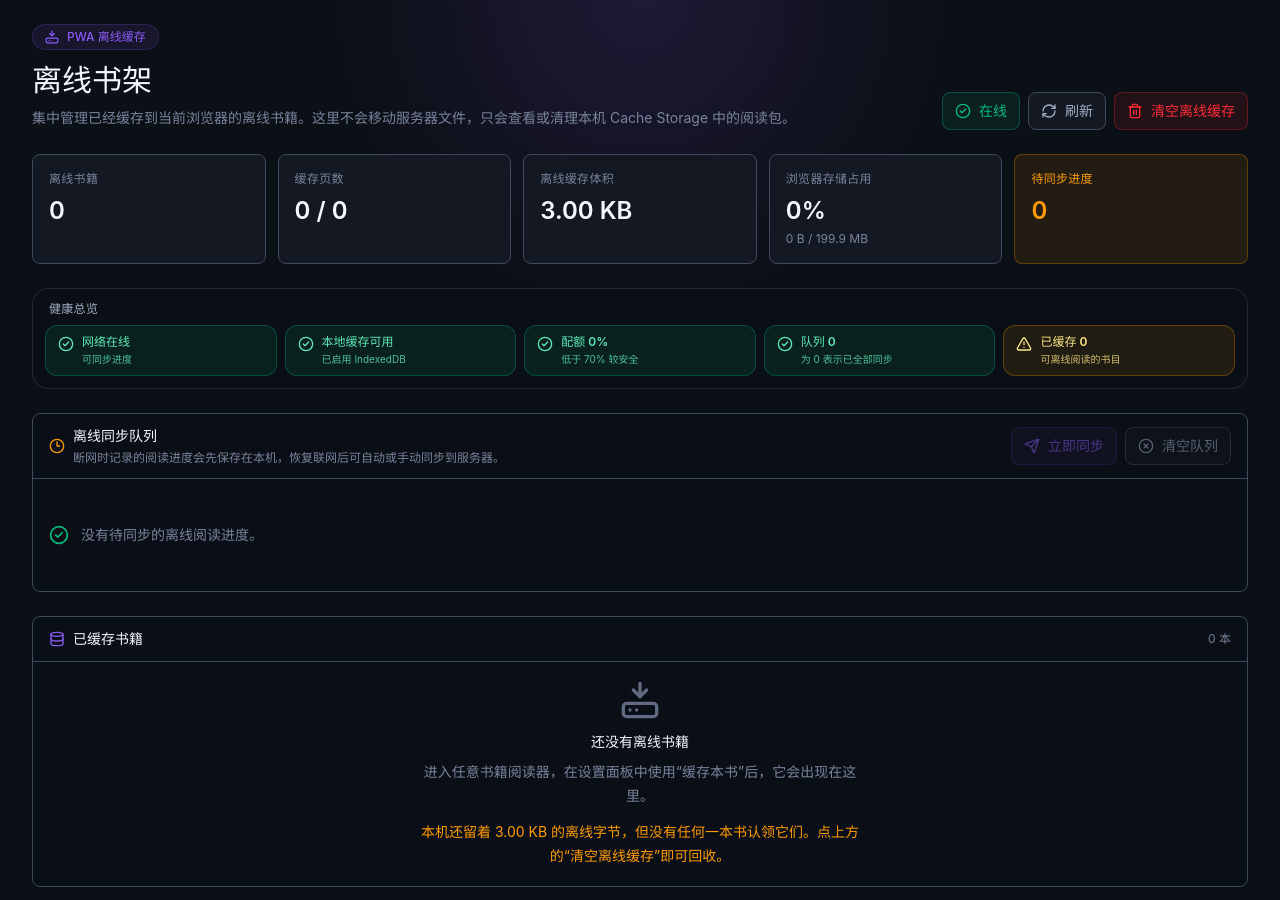
离线书架的孤儿字节回收 › 索引空了但盘上还有字节时，清空全部仍可点，并说清有多少可回收
This screenshot has width=1280, height=900.
Expected: the text "还没有离线书籍" is shown, x1=591 y1=732 x2=689 y2=752
Expected: the text "本机还留着 3.00 KB 的离线字节，但没有任何一本书认领它们。点上方的“清空离线缓存”即可回收。" is shown, x1=416 y1=820 x2=864 y2=868
Click the button "清空离线缓存". click: x=1181, y=111
box: x1=1114 y1=92 x2=1248 y2=130
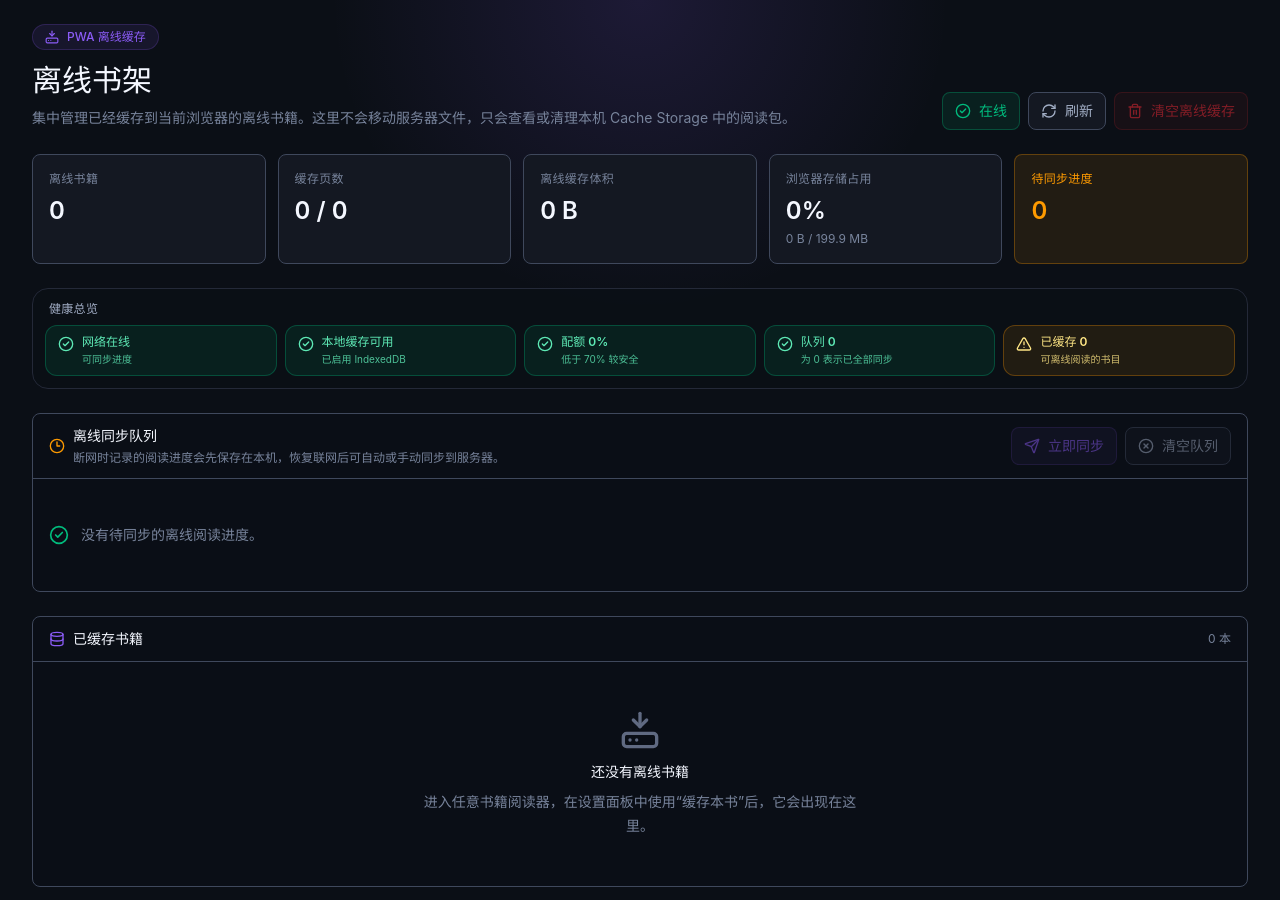
Expected: the button "清空离线缓存" is disabled, x1=1114 y1=92 x2=1248 y2=130
